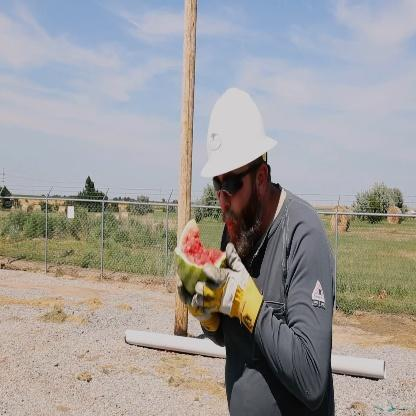helmet: (203, 78, 294, 242)
